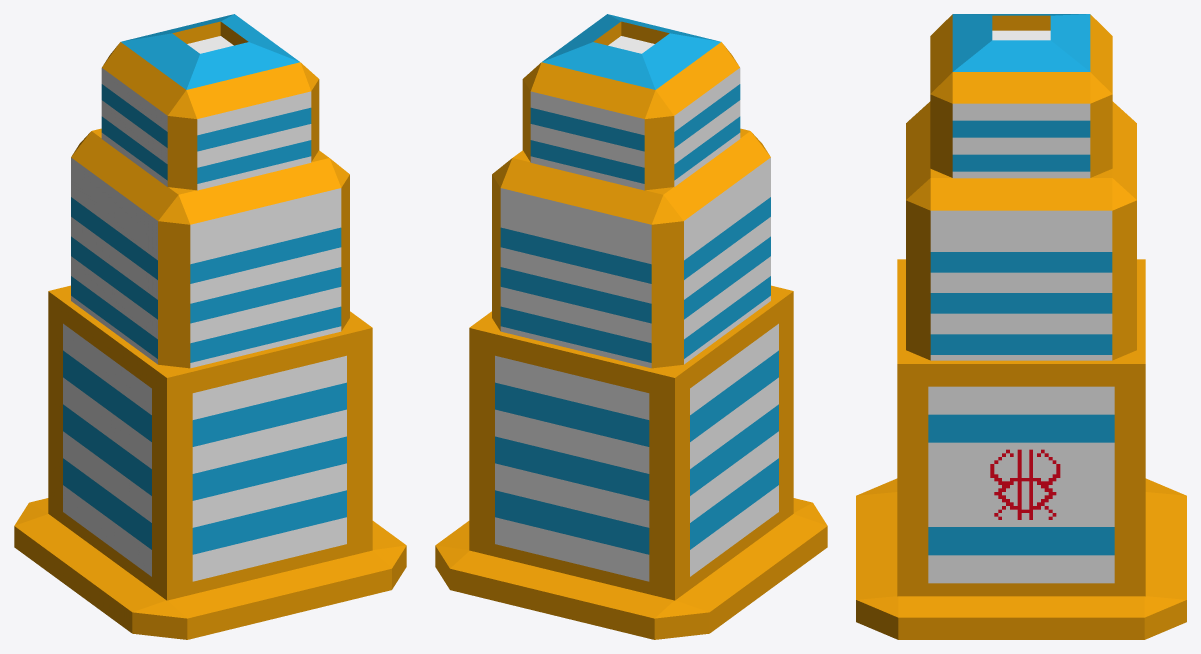
Rendered from Space_Office_Lvl_3.fbx.
The picture shows the model from 3 angles, left to right: view 1: azimuth 30°, elevation 25°; view 2: azimuth 150°, elevation 25°; view 3: azimuth 270°, elevation 25°; orthographic projection. The views are drawn at different scales.
Visible parts, largest first — view 1: Cube; view 2: Cube; view 3: Cube.
Part boxes in pixels (bbox=[...]): Cube: bbox=[14, 14, 406, 639]; Cube: bbox=[435, 14, 827, 639]; Cube: bbox=[856, 14, 1186, 639].
Bounding box in the file's own units: 200 × 364 × 200.
